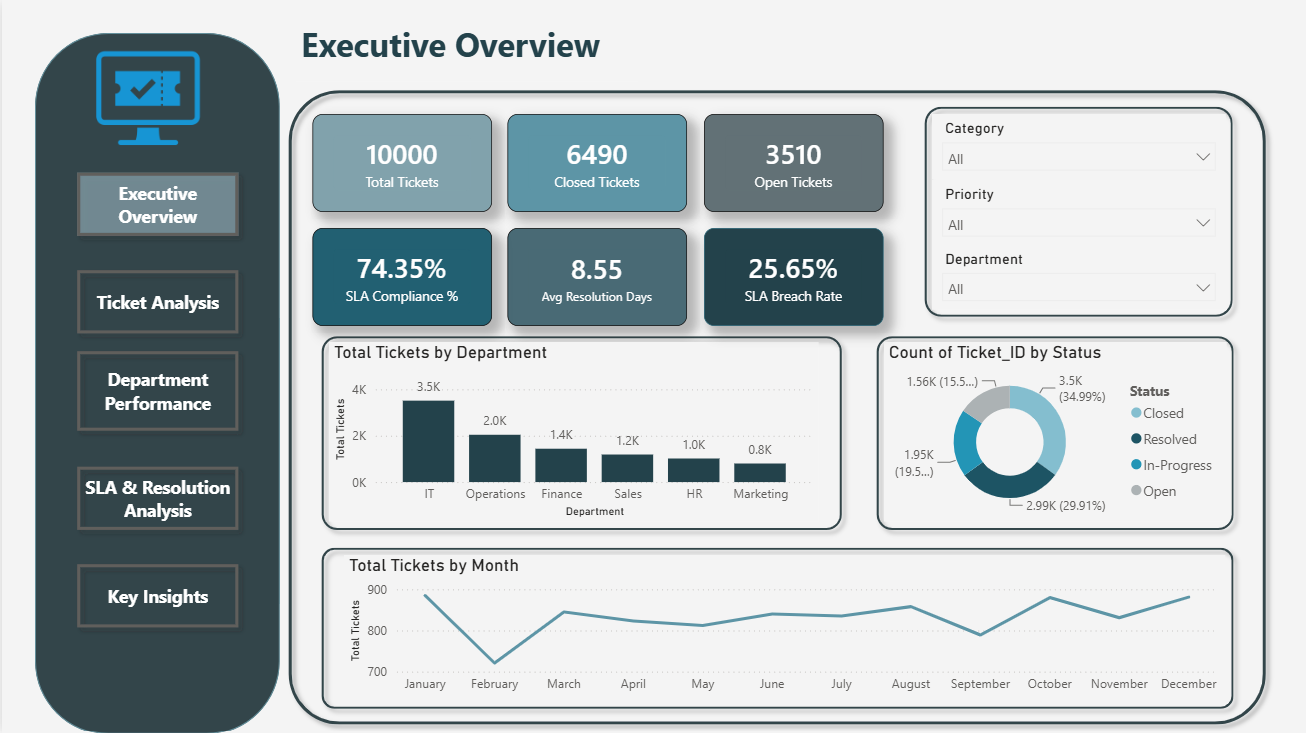

The dashboard page shown, as its layout file describes it:
{"tool":"powerbi","page":{"name":"Executive Overview","canvas":[1280,720],"ordinal":0},"visuals":[{"type":"shape","box":[272,80,976,640],"z":11000},{"type":"shape","box":[32,32,240,688],"z":13000},{"type":"actionButton","box":[64,160,176,80],"z":14000},{"type":"actionButton","box":[64,256,176,80],"z":15000},{"type":"actionButton","box":[64,336,176,96],"z":16000},{"type":"actionButton","box":[64,448,176,80],"z":17000},{"type":"actionButton","box":[64,544,176,80],"z":18000},{"type":"image","box":[80,32,128,128],"z":19000},{"type":"textbox","box":[288,16,336,64],"z":20000},{"type":"shape","box":[848,320,368,208],"z":21000},{"type":"shape","box":[304,320,528,208],"z":22000},{"type":"shape","box":[304,528,912,176],"z":23000},{"type":"shape","box":[896,96,320,224],"z":24000},{"type":"cardVisual","fields":{"Data":["IT_Service_Desk_Dataset.Total Tickets"]},"box":[304,112,176,96],"z":24500},{"type":"cardVisual","fields":{"Data":["IT_Service_Desk_Dataset.Closed Tickets"]},"box":[496,112,176,96],"z":25000},{"type":"cardVisual","fields":{"Data":["IT_Service_Desk_Dataset.Open Tickets"]},"box":[688,112,176,96],"z":25500},{"type":"cardVisual","fields":{"Data":["IT_Service_Desk_Dataset.Avg Resolution Days"]},"box":[496,224,176,96],"z":26000},{"type":"cardVisual","fields":{"Data":["IT_Service_Desk_Dataset.SLA Compliance %"]},"box":[304,224,176,96],"z":26500},{"type":"lineChart","fields":{"Category":["IT_Service_Desk_Dataset.Created_Date.Variation.Date Hierarchy.Month"],"Y":["IT_Service_Desk_Dataset.Total Tickets"]},"box":[336,544,864,144],"z":27000},{"type":"donutChart","fields":{"Category":["IT_Service_Desk_Dataset.Status"],"Y":["CountNonNull(IT_Service_Desk_Dataset.Ticket_ID)"]},"box":[864,336,336,176],"z":27500},{"type":"clusteredColumnChart","fields":{"Category":["IT_Service_Desk_Dataset.Department"],"Y":["IT_Service_Desk_Dataset.Total Tickets"]},"box":[320,336,480,176],"z":28000},{"type":"slicer","fields":{"Values":["IT_Service_Desk_Dataset.Department"]},"box":[912,240,288,64],"z":28500},{"type":"slicer","fields":{"Values":["IT_Service_Desk_Dataset.Priority"]},"box":[912,176,288,64],"z":29000},{"type":"slicer","fields":{"Values":["IT_Service_Desk_Dataset.Category"]},"box":[912,112,288,64],"z":29500},{"type":"cardVisual","fields":{"Data":["IT_Service_Desk_Dataset.SLA Breach Rate"]},"box":[688,224,176,96],"z":30000}]}

Visuals, with their boxes in screenshot pixels (x1, y1, x2, y2), scaled from the page's 1280x720 canvas onto the 1306x733 screenshot:
shape: {"left": 278, "top": 81, "right": 1273, "bottom": 732}
shape: {"left": 33, "top": 33, "right": 278, "bottom": 732}
actionButton: {"left": 65, "top": 163, "right": 245, "bottom": 244}
actionButton: {"left": 65, "top": 261, "right": 245, "bottom": 342}
actionButton: {"left": 65, "top": 342, "right": 245, "bottom": 440}
actionButton: {"left": 65, "top": 456, "right": 245, "bottom": 538}
actionButton: {"left": 65, "top": 554, "right": 245, "bottom": 635}
image: {"left": 82, "top": 33, "right": 212, "bottom": 163}
textbox: {"left": 294, "top": 16, "right": 637, "bottom": 81}
shape: {"left": 865, "top": 326, "right": 1241, "bottom": 538}
shape: {"left": 310, "top": 326, "right": 849, "bottom": 538}
shape: {"left": 310, "top": 538, "right": 1241, "bottom": 717}
shape: {"left": 914, "top": 98, "right": 1241, "bottom": 326}
cardVisual - IT_Service_Desk_Dataset.Total Tickets: {"left": 310, "top": 114, "right": 490, "bottom": 212}
cardVisual - IT_Service_Desk_Dataset.Closed Tickets: {"left": 506, "top": 114, "right": 686, "bottom": 212}
cardVisual - IT_Service_Desk_Dataset.Open Tickets: {"left": 702, "top": 114, "right": 882, "bottom": 212}
cardVisual - IT_Service_Desk_Dataset.Avg Resolution Days: {"left": 506, "top": 228, "right": 686, "bottom": 326}
cardVisual - IT_Service_Desk_Dataset.SLA Compliance %: {"left": 310, "top": 228, "right": 490, "bottom": 326}
lineChart - IT_Service_Desk_Dataset.Created_Date.Variation.Date Hierarchy.Month x IT_Service_Desk_Dataset.Total Tickets: {"left": 343, "top": 554, "right": 1224, "bottom": 700}
donutChart - IT_Service_Desk_Dataset.Status x CountNonNull(IT_Service_Desk_Dataset.Ticket_ID): {"left": 882, "top": 342, "right": 1224, "bottom": 521}
clusteredColumnChart - IT_Service_Desk_Dataset.Department x IT_Service_Desk_Dataset.Total Tickets: {"left": 326, "top": 342, "right": 816, "bottom": 521}
slicer - IT_Service_Desk_Dataset.Department: {"left": 931, "top": 244, "right": 1224, "bottom": 309}
slicer - IT_Service_Desk_Dataset.Priority: {"left": 931, "top": 179, "right": 1224, "bottom": 244}
slicer - IT_Service_Desk_Dataset.Category: {"left": 931, "top": 114, "right": 1224, "bottom": 179}
cardVisual - IT_Service_Desk_Dataset.SLA Breach Rate: {"left": 702, "top": 228, "right": 882, "bottom": 326}
